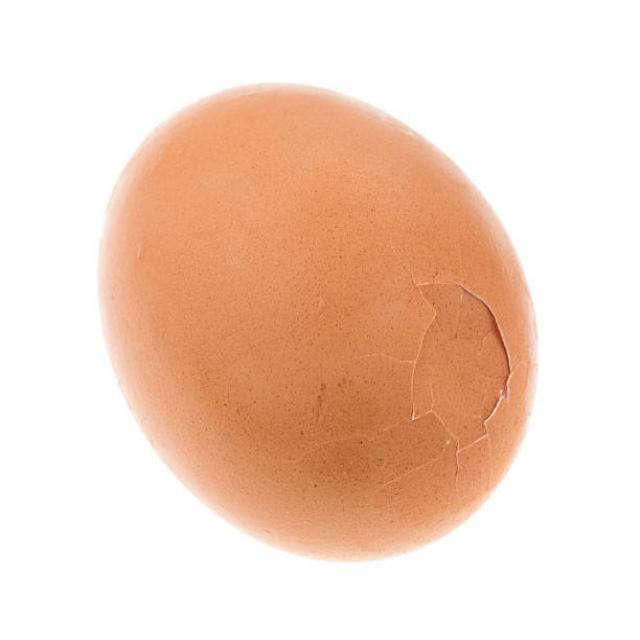biodegradable: (87, 73, 543, 566)
